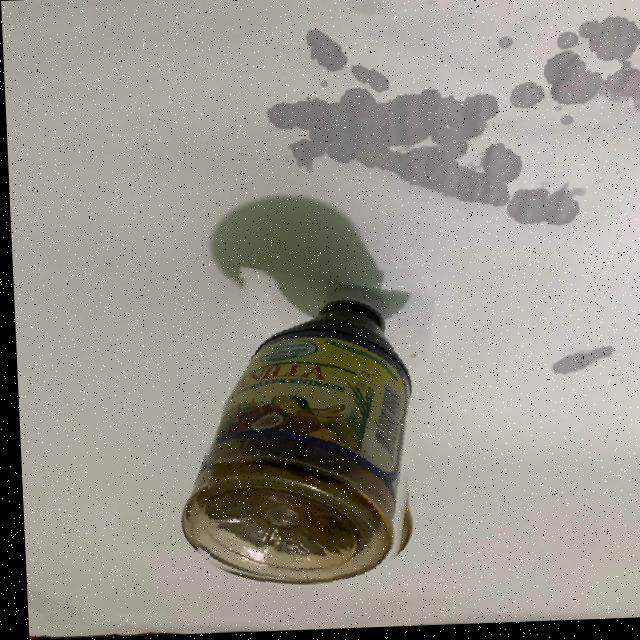litter: (193, 270, 428, 593)
